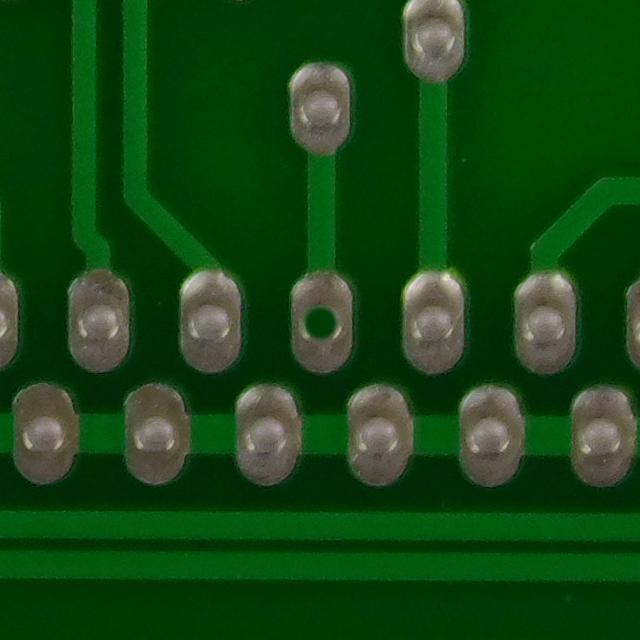missing_hole: (284, 276, 361, 359)
